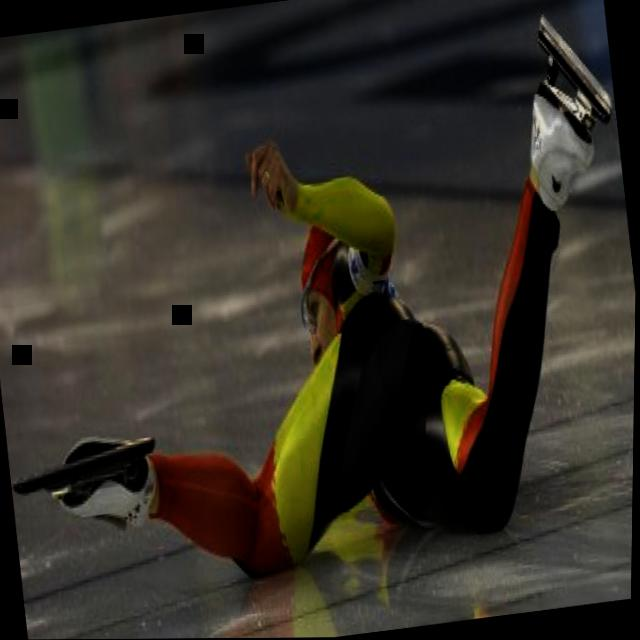Fall-Detected: (0, 19, 640, 622)
